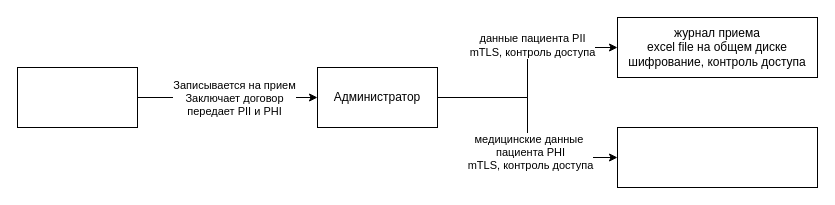
Some shapes in this 835 by 205 pixel diagram are drawn without their labels. The centre of each missing label's shape, as x and y in pixels:
"медкарта, договор сканы документов на общем диске шифрование, контроль доступа" goes at (717,157).
"Пациент" goes at (77,97).
